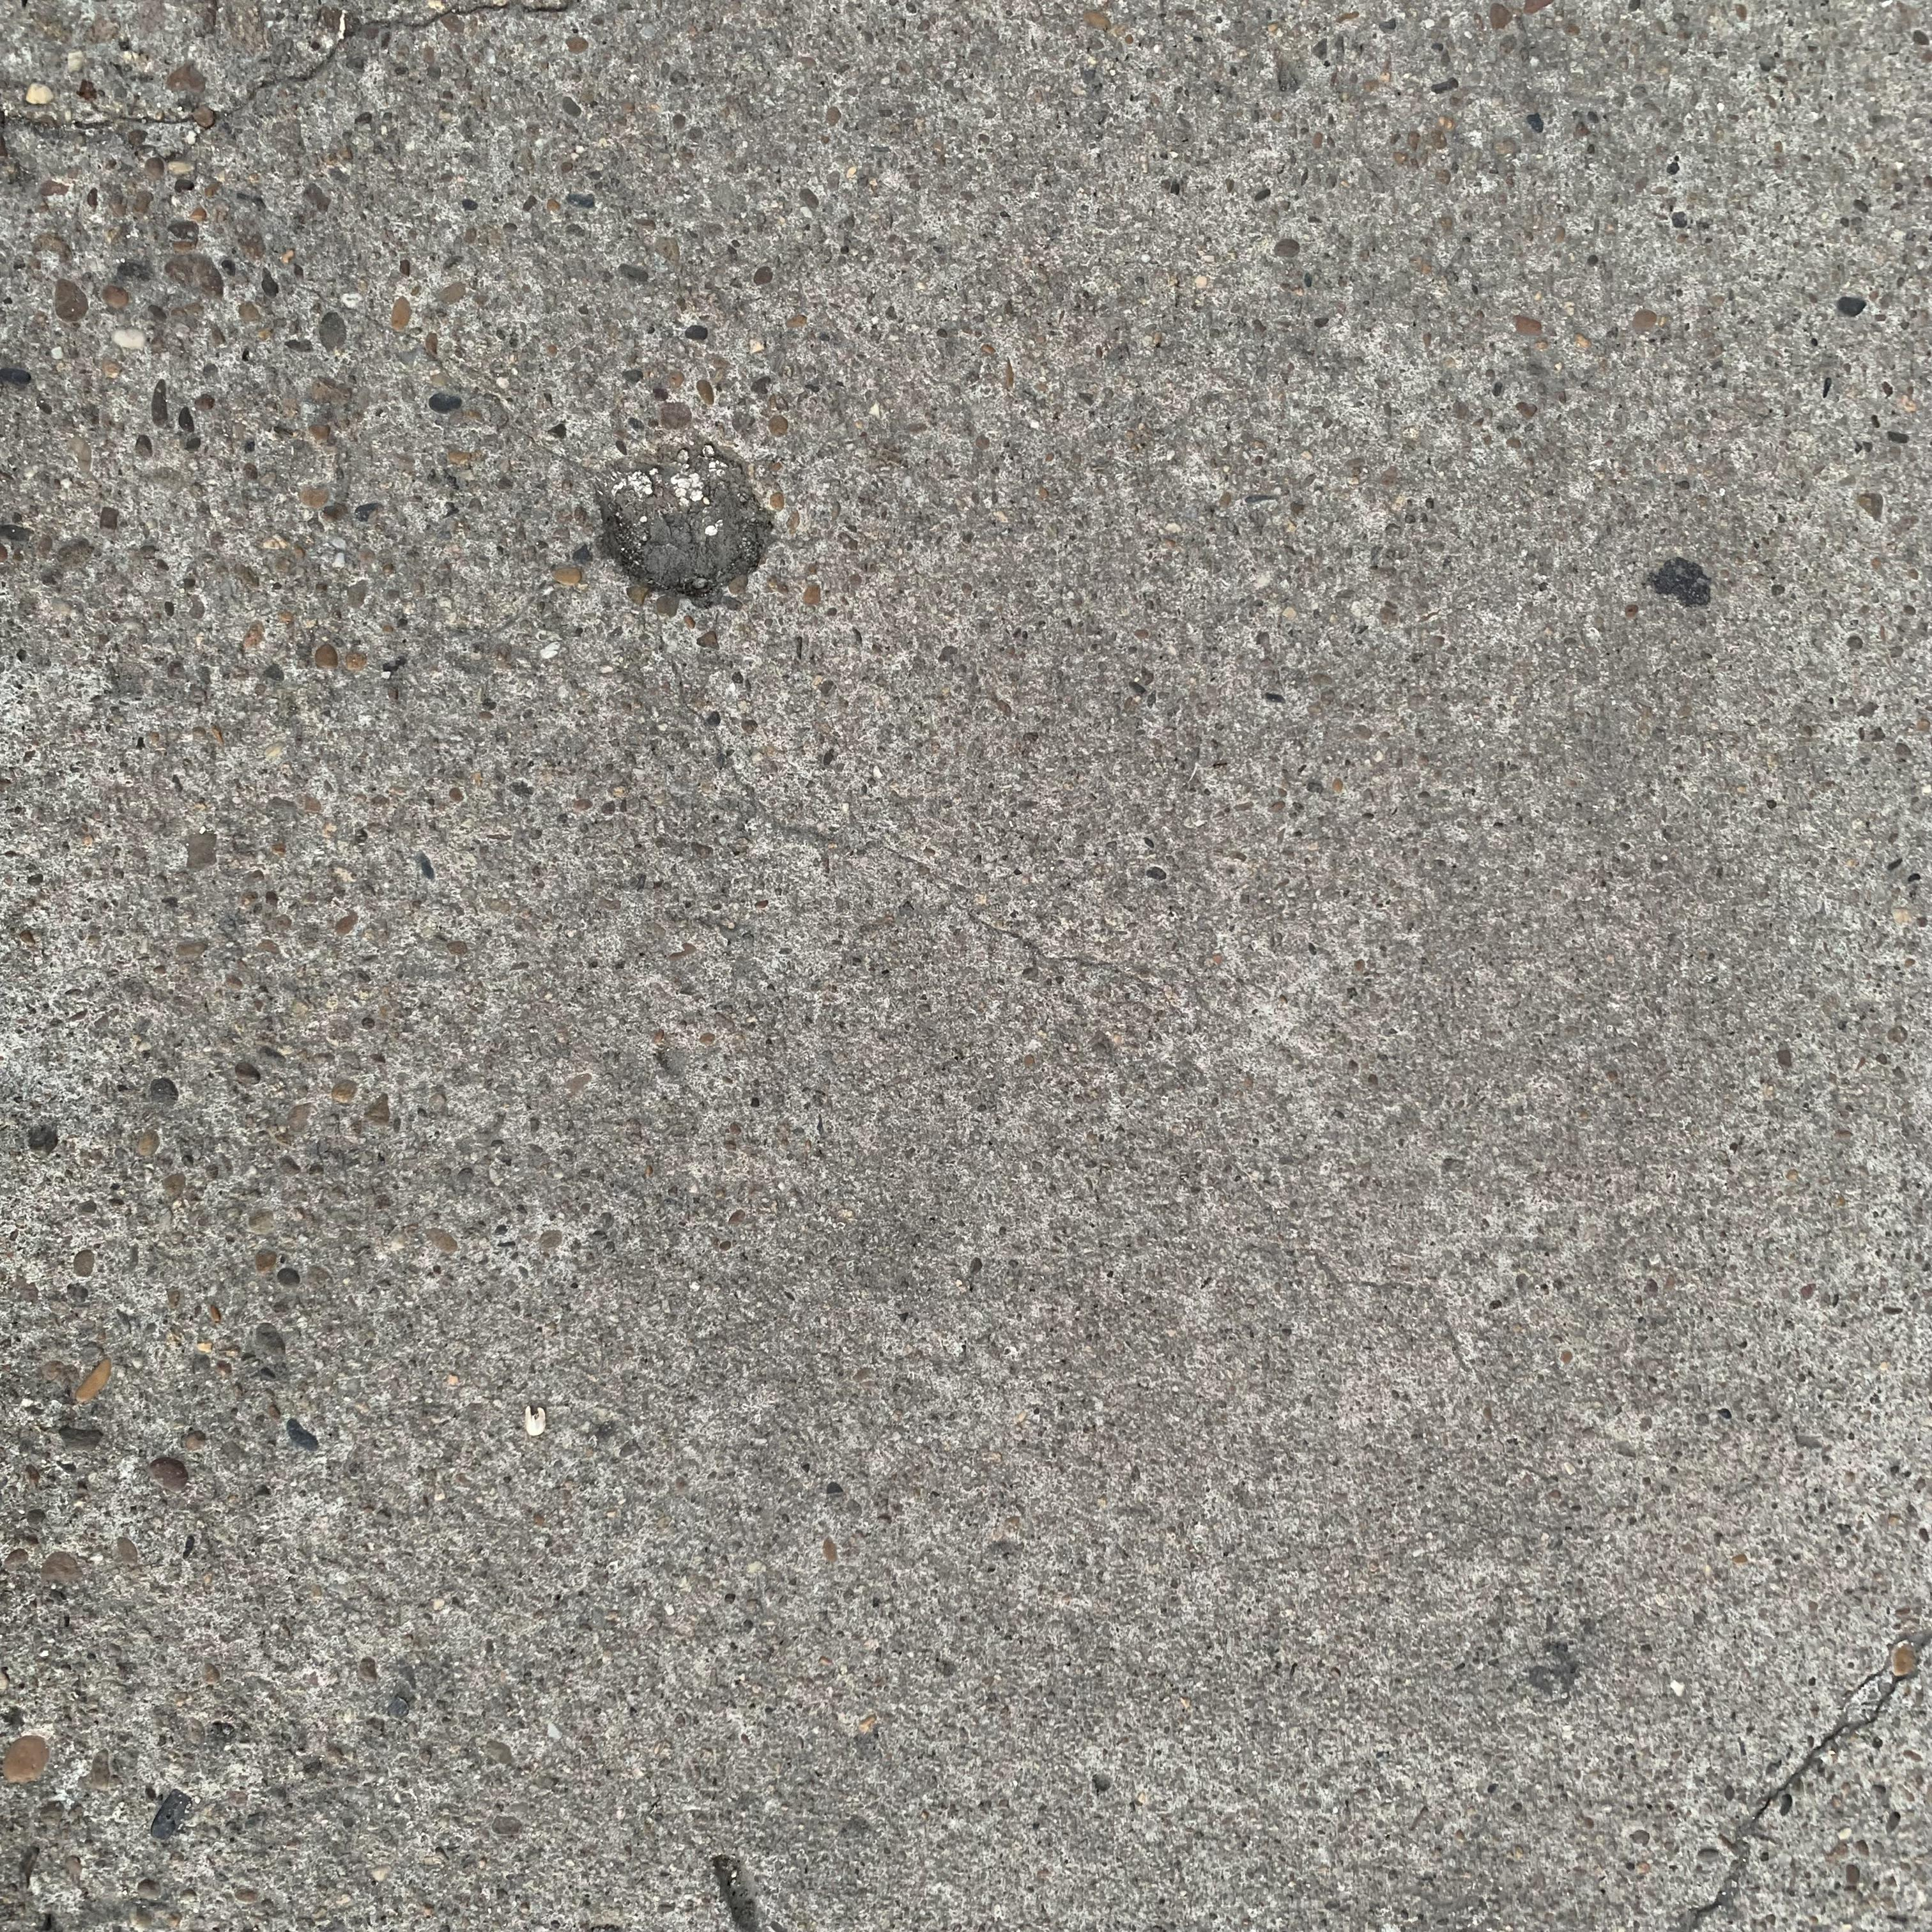grey spot: (602, 446, 775, 610), (1654, 557, 1713, 609)
